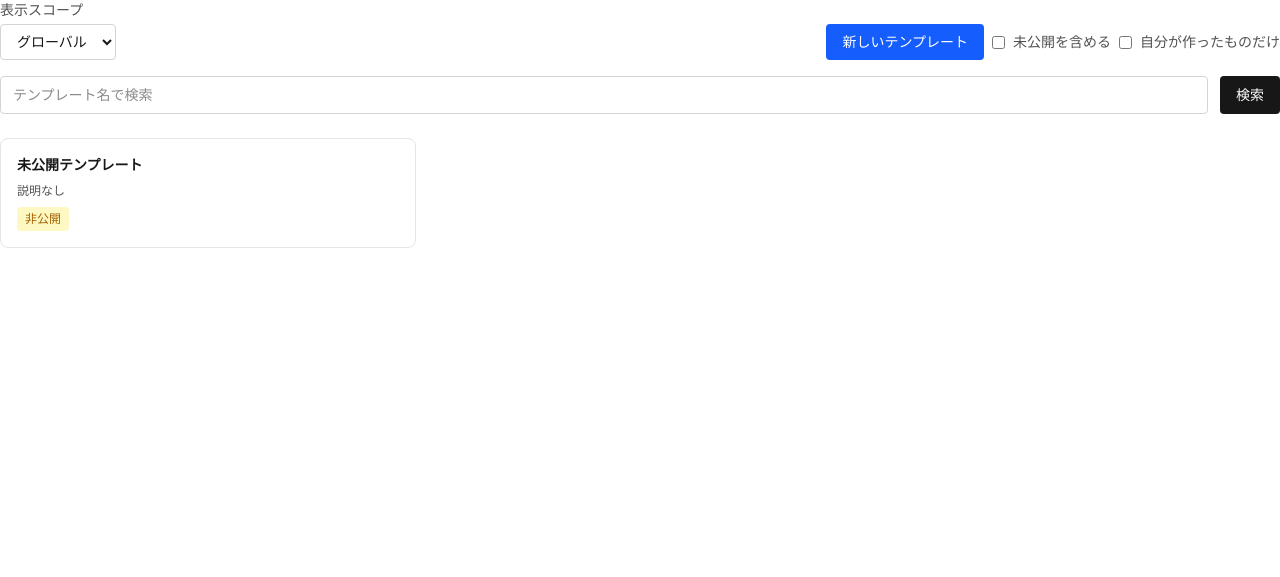
Test: CustomTagTemplateGallery 公開/非公開の切り替え › 「公開する」で公開アクションを呼び、詳細を閉じて一覧を再取得する
Click the heading "未公開テンプレート".
click(80, 165)  # box [17,157,143,173]
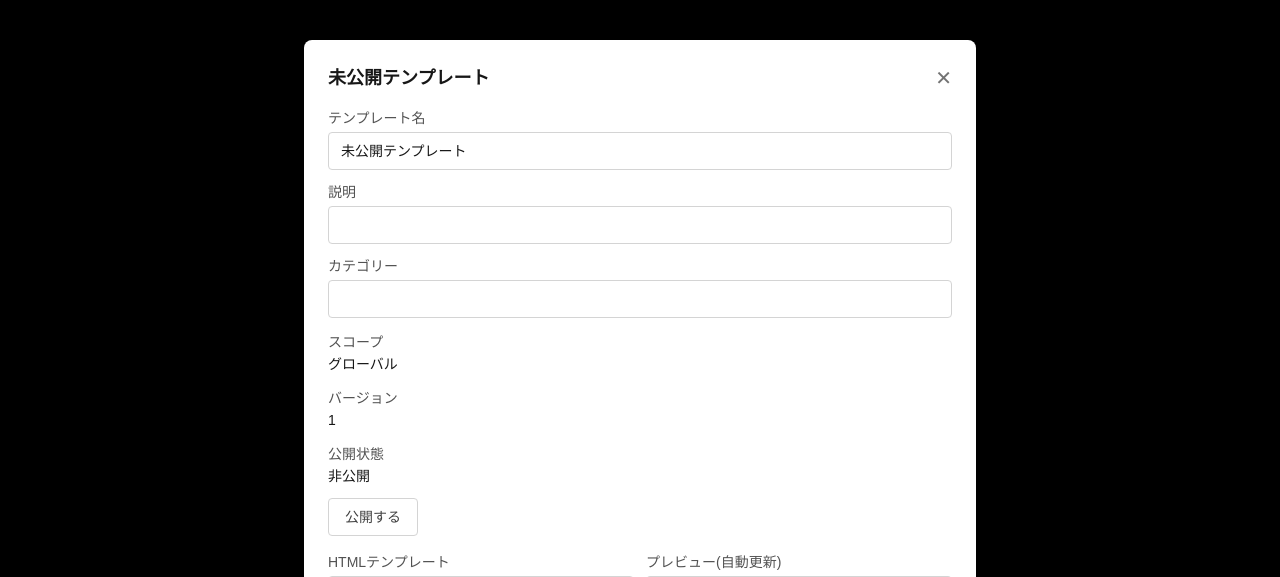
Click the button "公開する".
click(373, 517)  # box [328,498,418,536]
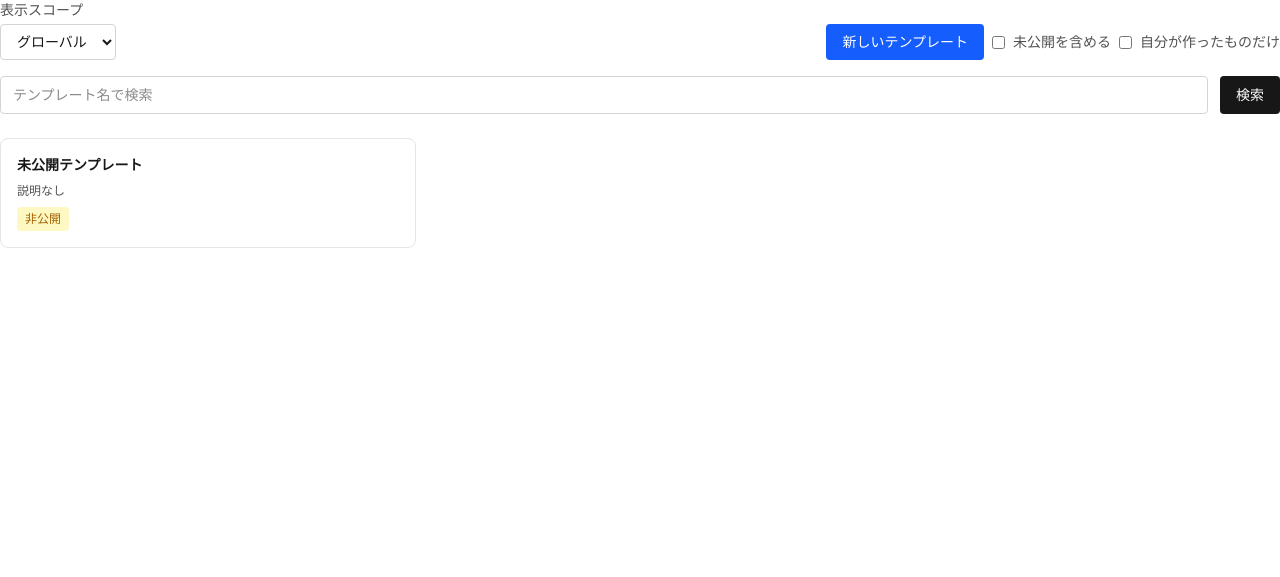
Expected: the button "公開する" is gone
